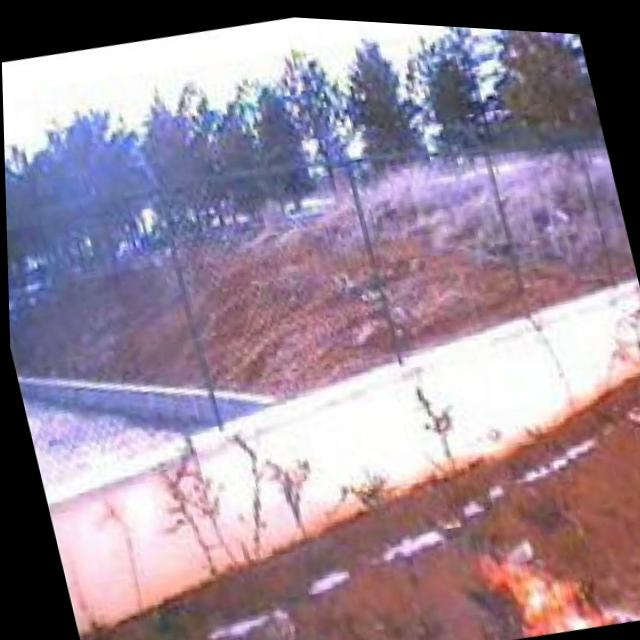Fire: (466, 504, 640, 640)
